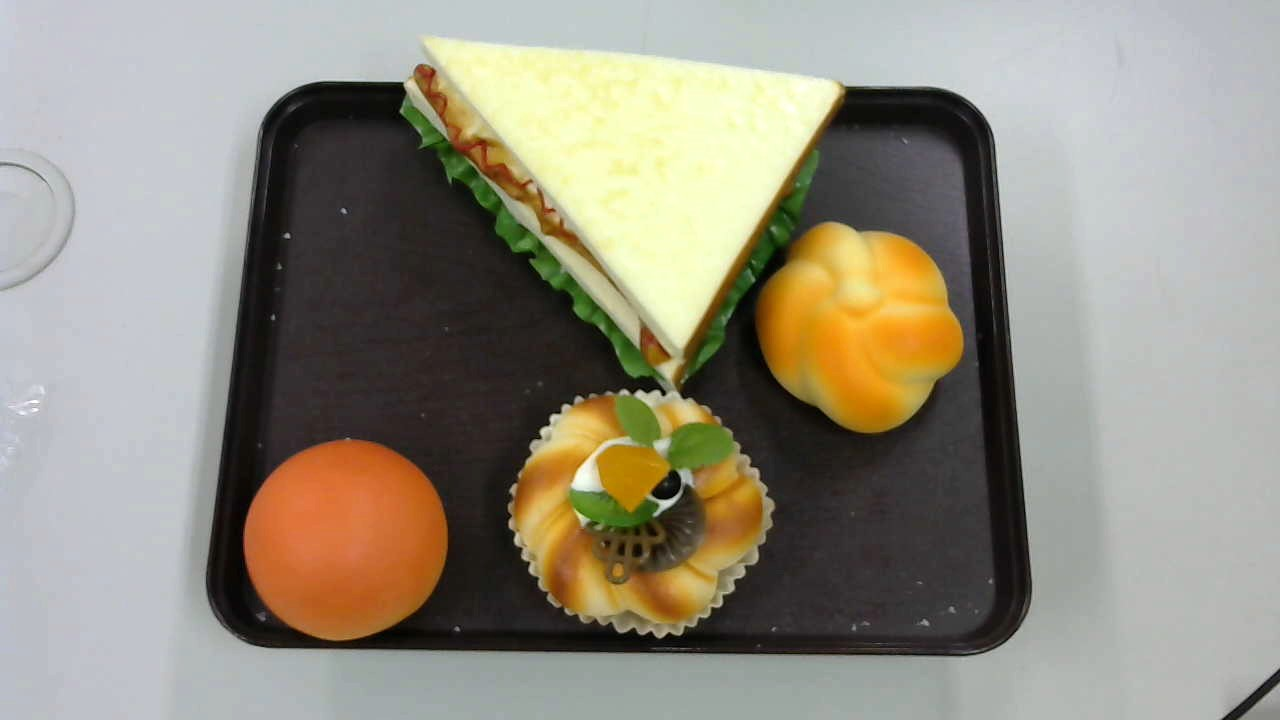bun: (242, 438, 449, 643)
fruit tart: (506, 387, 777, 638)
sandwich: (400, 33, 845, 399)
twist bread: (756, 224, 965, 436)
